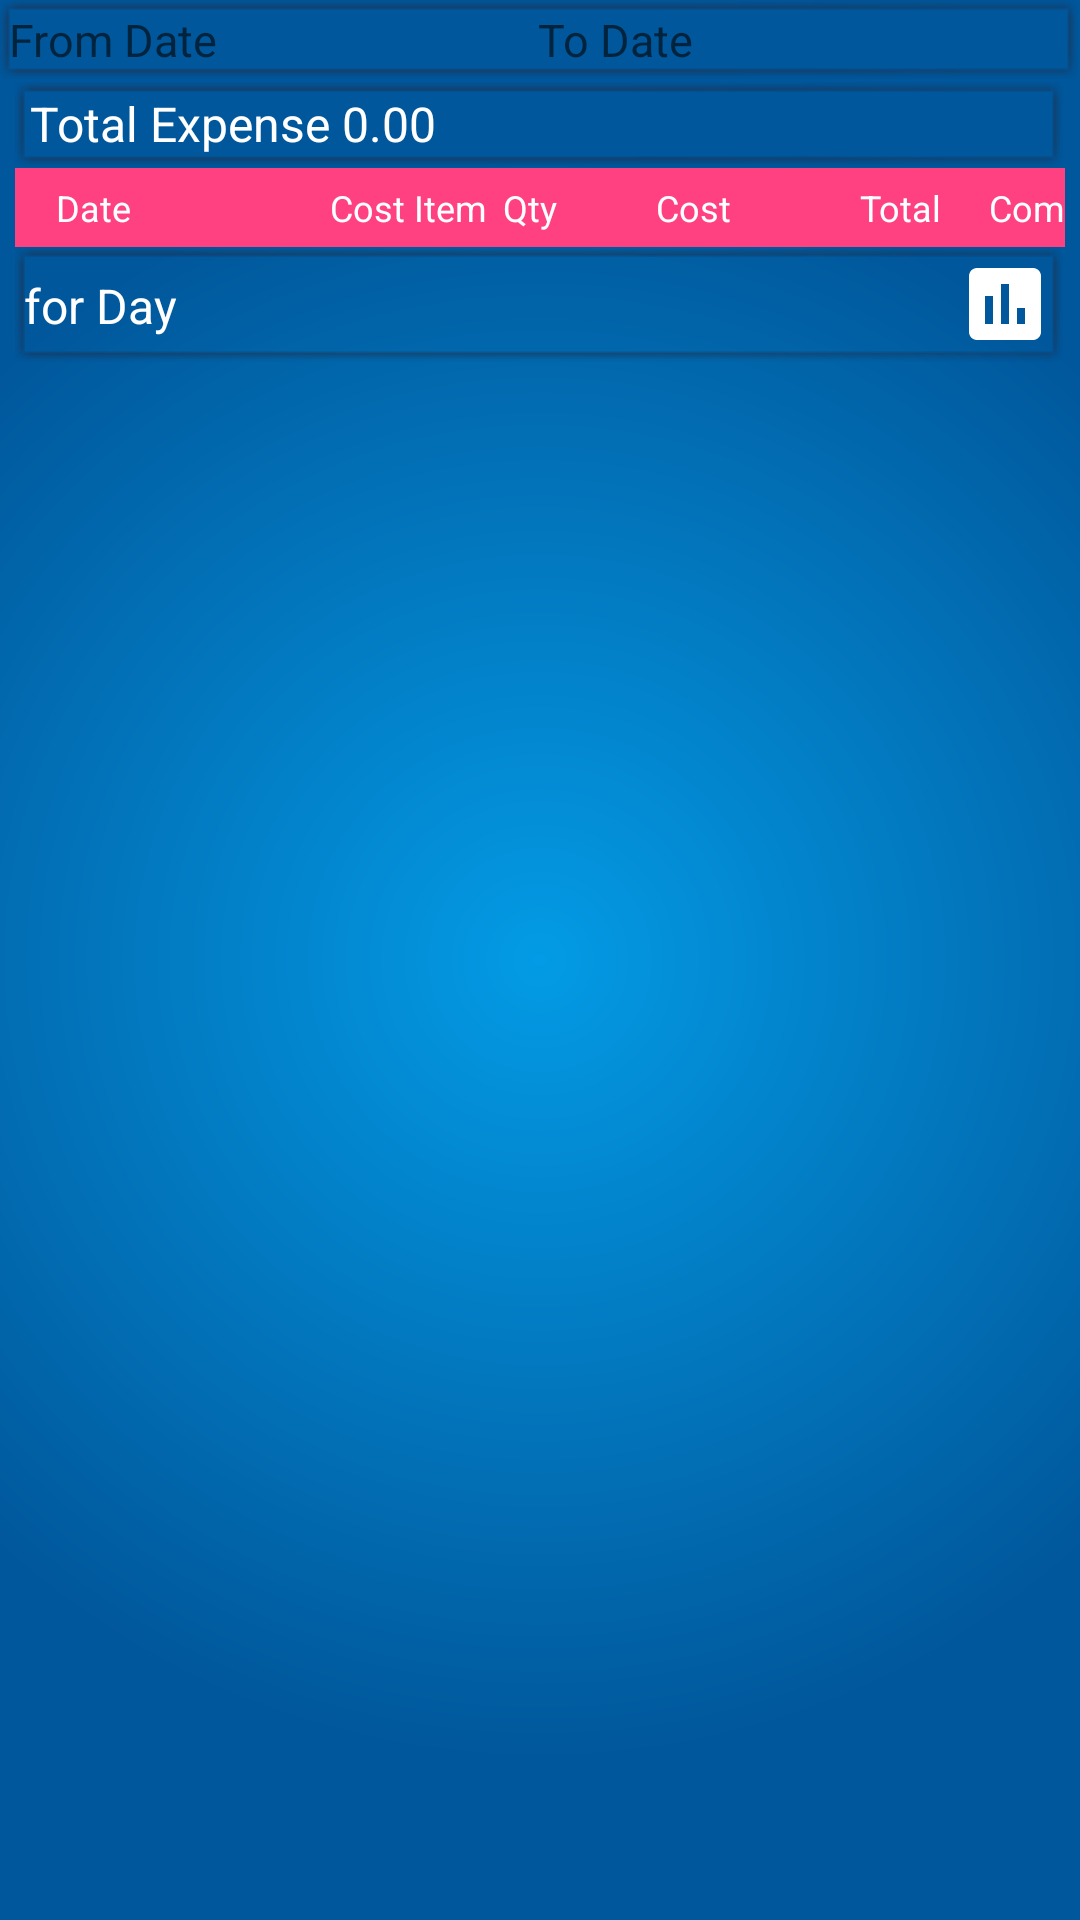

Screen size 1080×1920. Icon name, then its box in pixels as detection(x1, y1, x2, y2):
poll: detection(969, 268, 1041, 340)
